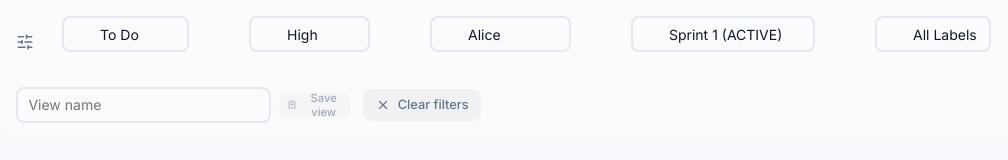
Test case: IssueFilterBar › clears filters when clear button is clicked
The image size is (1008, 160).
Click the button "Clear filters" at (422, 105), box [363, 89, 482, 121]
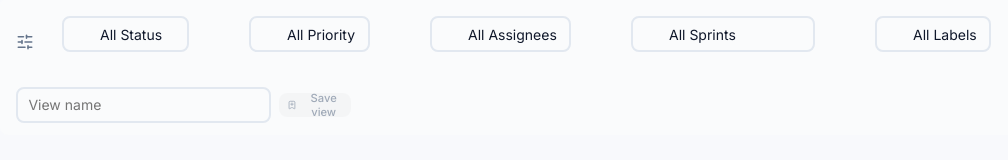
Now the dropdown named "Filter by status" shows "All Status", box [62, 16, 189, 52]
Now the dropdown named "Filter by priority" shows "All Priority", box [249, 16, 370, 52]
Now the dropdown named "Filter by assignee" shows "All Assignees", box [430, 16, 571, 52]
